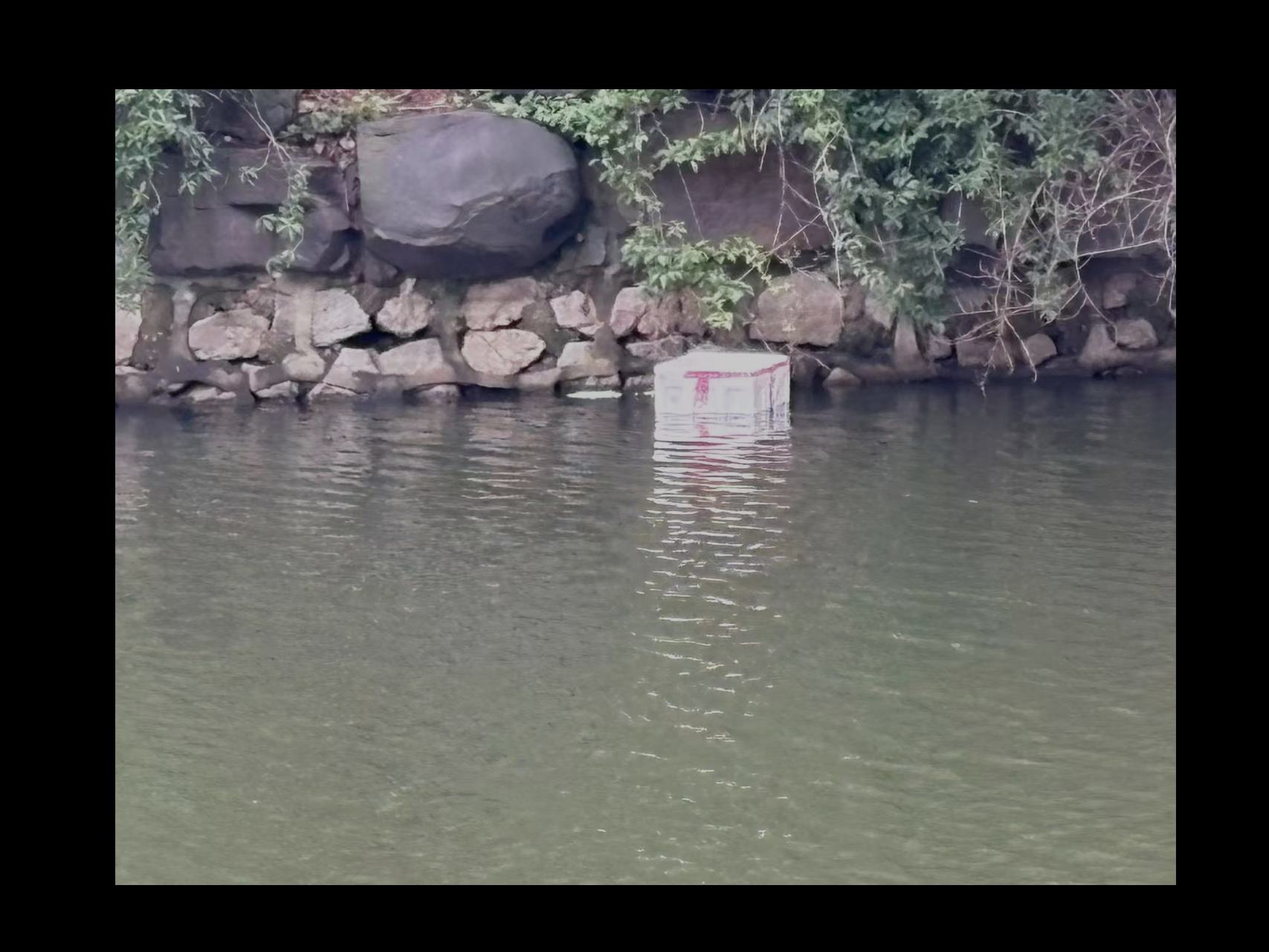Plastic wastes: (647, 343, 797, 427), (566, 385, 621, 399)
